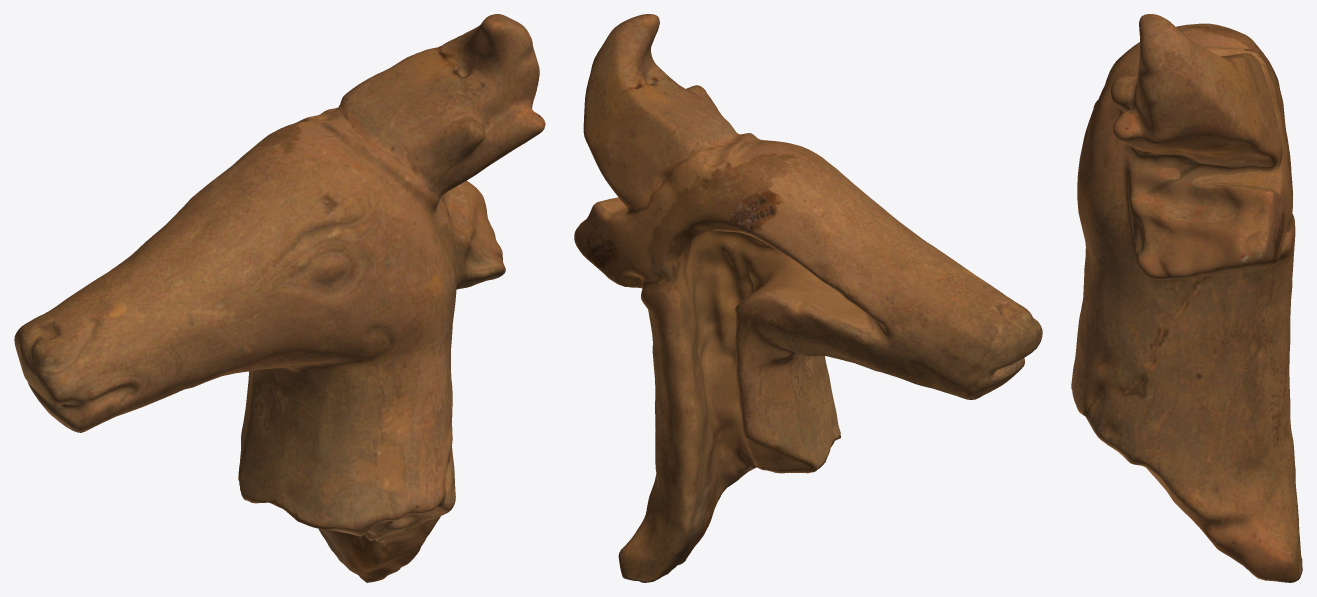
Rendered from MysonMuseum_gazelle_final.glb.
3 renders of one model, left to right at view 1: azimuth 30°, elevation 25°; view 2: azimuth 150°, elevation 25°; view 3: azimuth 270°, elevation 25°, orthographic. The views are drawn at different scales.
Bounding box in the file's own units: 0.2965 × 0.3311 × 0.1183.
Materials: 1 (1 with a texture image).
